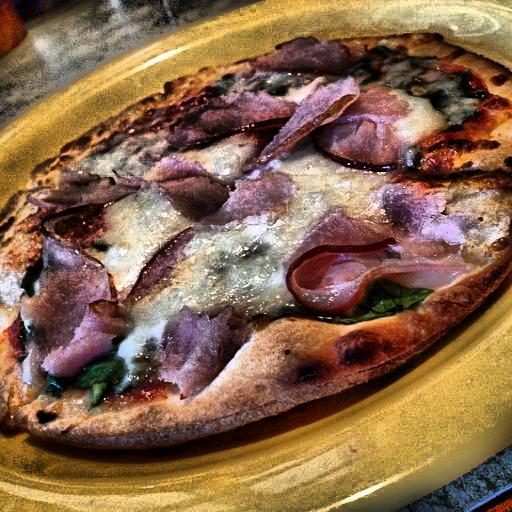pizza: (5, 7, 512, 439)
